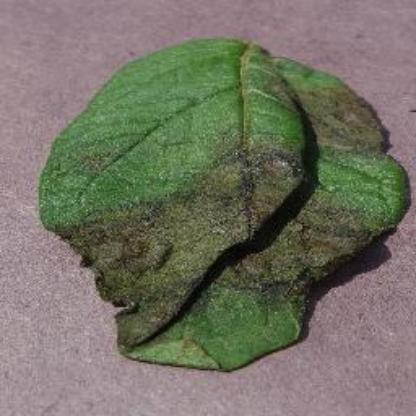Late-Blight: (32, 29, 410, 389)
